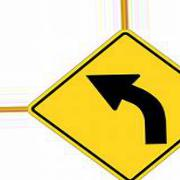left: (28, 31, 180, 180)
